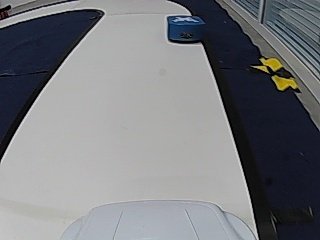prop: (167, 16, 206, 44)
